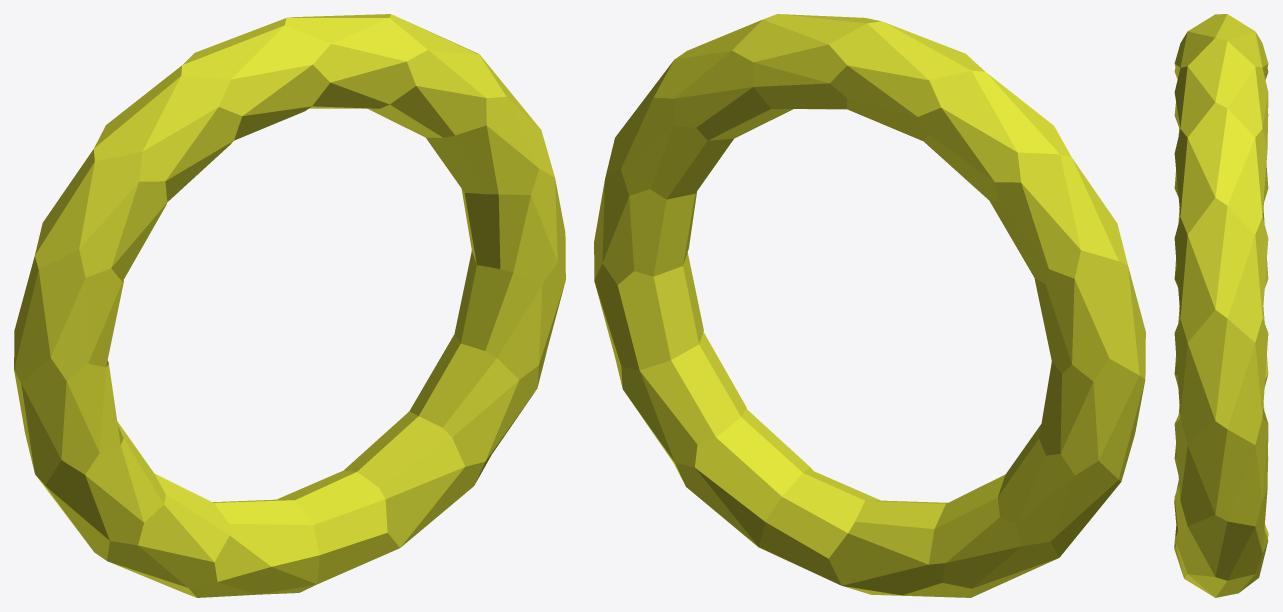
The model's file is Aro.fbx.
3 renders of one model, left to right at view 1: azimuth 30°, elevation 25°; view 2: azimuth 150°, elevation 25°; view 3: azimuth 270°, elevation 25°, orthographic. The views are drawn at different scales.
Parts seen in each view (by area): view 1: Aro; view 2: Aro; view 3: Aro.
Boxes of the visible parts, x1=… form: Aro: x1=14, y1=14, x2=565, y2=597; Aro: x1=594, y1=14, x2=1145, y2=597; Aro: x1=1174, y1=14, x2=1268, y2=597.
Bounding box in the file's own units: 170 × 169 × 27.41.
